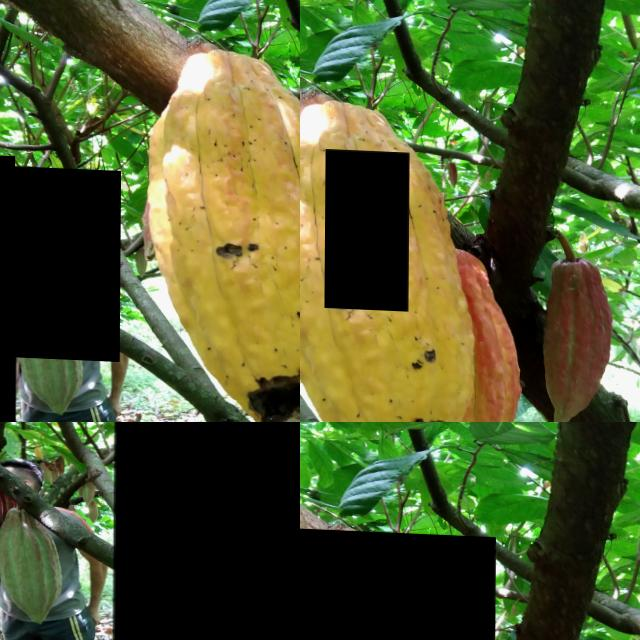Fitoftora: (300, 526, 496, 640)
Monilia: (325, 146, 410, 308)
Sana: (113, 422, 300, 640), (8, 165, 121, 360), (0, 153, 15, 414), (0, 349, 16, 422)
